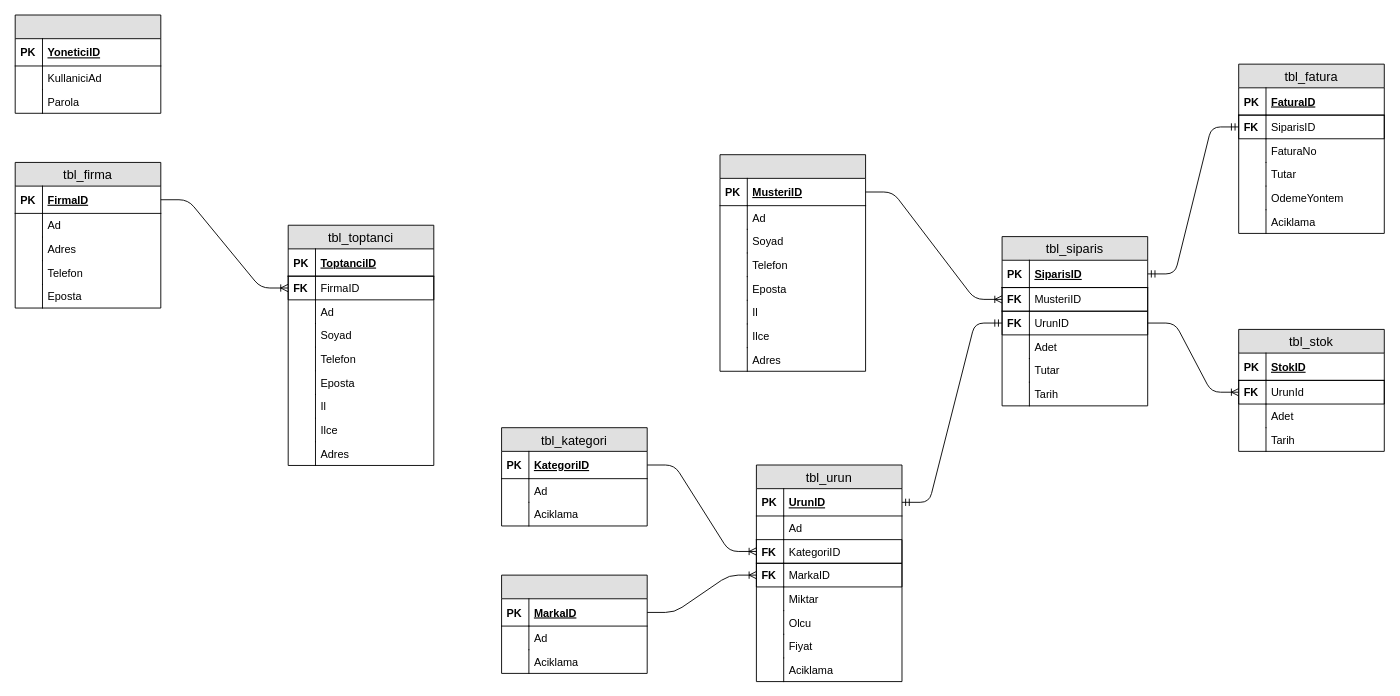
This 1400x696 diagram has some shape labels left out. Here are the shapes that lost their labels. From the top down, the box of each, then its label:
(14, 14, 161, 113): tbl_yonetici
(719, 154, 866, 371): tbl_musteri
(501, 574, 647, 673): tbl_marka
